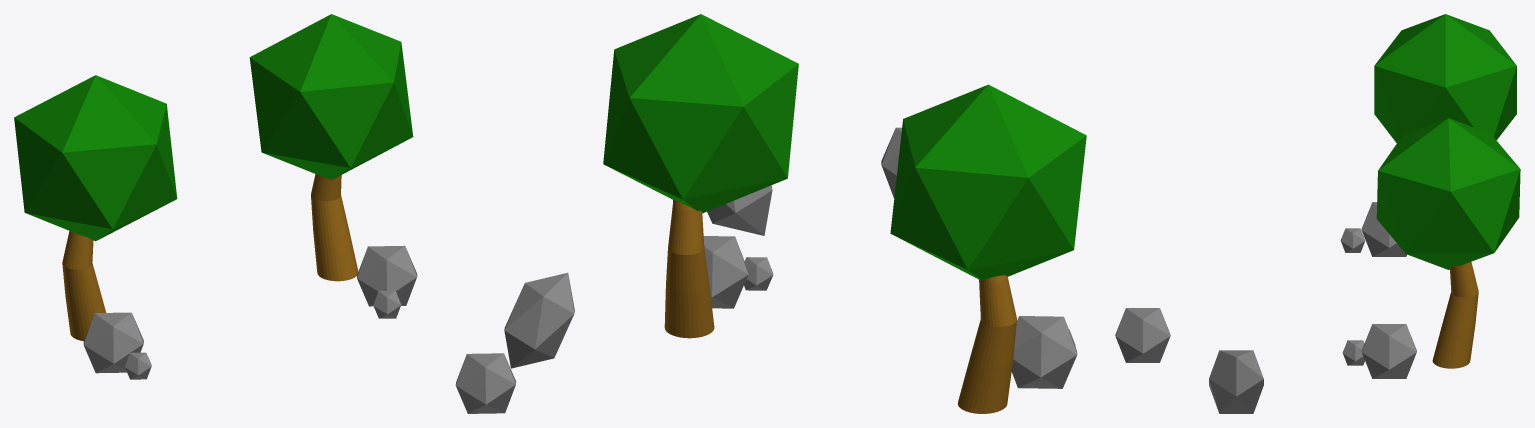
Rendered from Env_no_car.glb.
3 views of the same model, side by side, from view 1: azimuth 30°, elevation 25°; view 2: azimuth 150°, elevation 25°; view 3: azimuth 270°, elevation 25° (orthographic). The views are drawn at different scales.
Parts seen in each view (by area): view 1: Icosphere, Icosphere.001, rock.005, Cylinder.001, Cylinder, rock.006, rock.002, rock, rock.001, rock.003; view 2: Icosphere.001, Icosphere, Cylinder, Cylinder.001, rock.002, rock, rock.005, rock.001, rock.006; view 3: Icosphere.001, Icosphere, Cylinder.001, rock.005, rock.006, rock, rock.002, rock.003, rock.001.
Boxes of the visible parts, x1,y1,x2,y2 form: Icosphere: (14, 75, 177, 241); Icosphere.001: (249, 14, 413, 180); rock.005: (504, 272, 574, 368); Cylinder.001: (311, 174, 358, 281); Cylinder: (62, 231, 106, 341); rock.006: (455, 353, 516, 413); rock.002: (83, 312, 143, 373); rock: (357, 245, 417, 306); rock.001: (373, 290, 401, 318); rock.003: (124, 352, 151, 379); Icosphere.001: (603, 14, 798, 213); Icosphere: (890, 84, 1086, 280); Cylinder: (958, 275, 1016, 413); Cylinder.001: (664, 199, 714, 338); rock.002: (1011, 316, 1077, 388); rock: (703, 236, 748, 308); rock.005: (707, 185, 772, 235); rock.001: (744, 257, 773, 290); rock.006: (881, 127, 901, 198); Icosphere.001: (1376, 118, 1520, 269); Icosphere: (1374, 14, 1516, 142); Cylinder.001: (1432, 262, 1478, 368); rock.005: (1209, 350, 1263, 413); rock.006: (1115, 308, 1170, 362); rock: (1361, 324, 1416, 378); rock.002: (1361, 202, 1406, 256); rock.003: (1340, 228, 1365, 252); rock.001: (1342, 340, 1364, 365).
Size of what is drawn, in the model's own units: 14.2 by 8.88 by 12.51.
